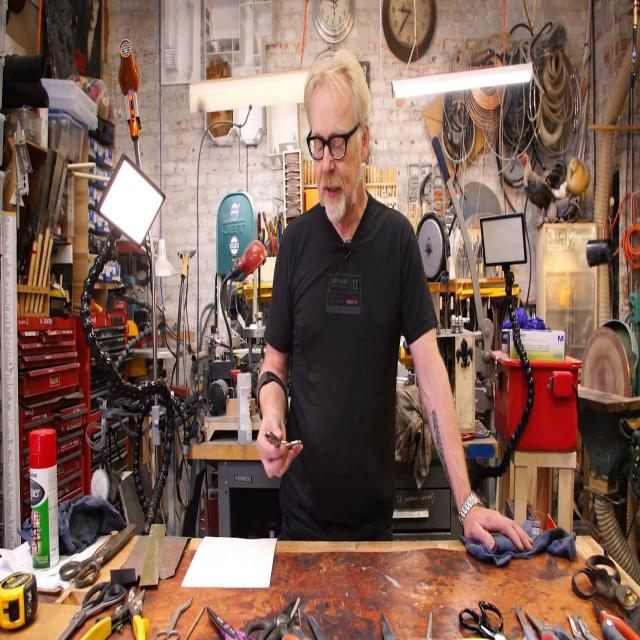scissor: (571, 554, 640, 640), (59, 523, 136, 588), (57, 581, 126, 640), (245, 597, 300, 640), (459, 600, 507, 640), (207, 605, 255, 640), (155, 596, 192, 640), (526, 612, 573, 640), (282, 607, 311, 640), (514, 604, 538, 640), (263, 431, 303, 450)
